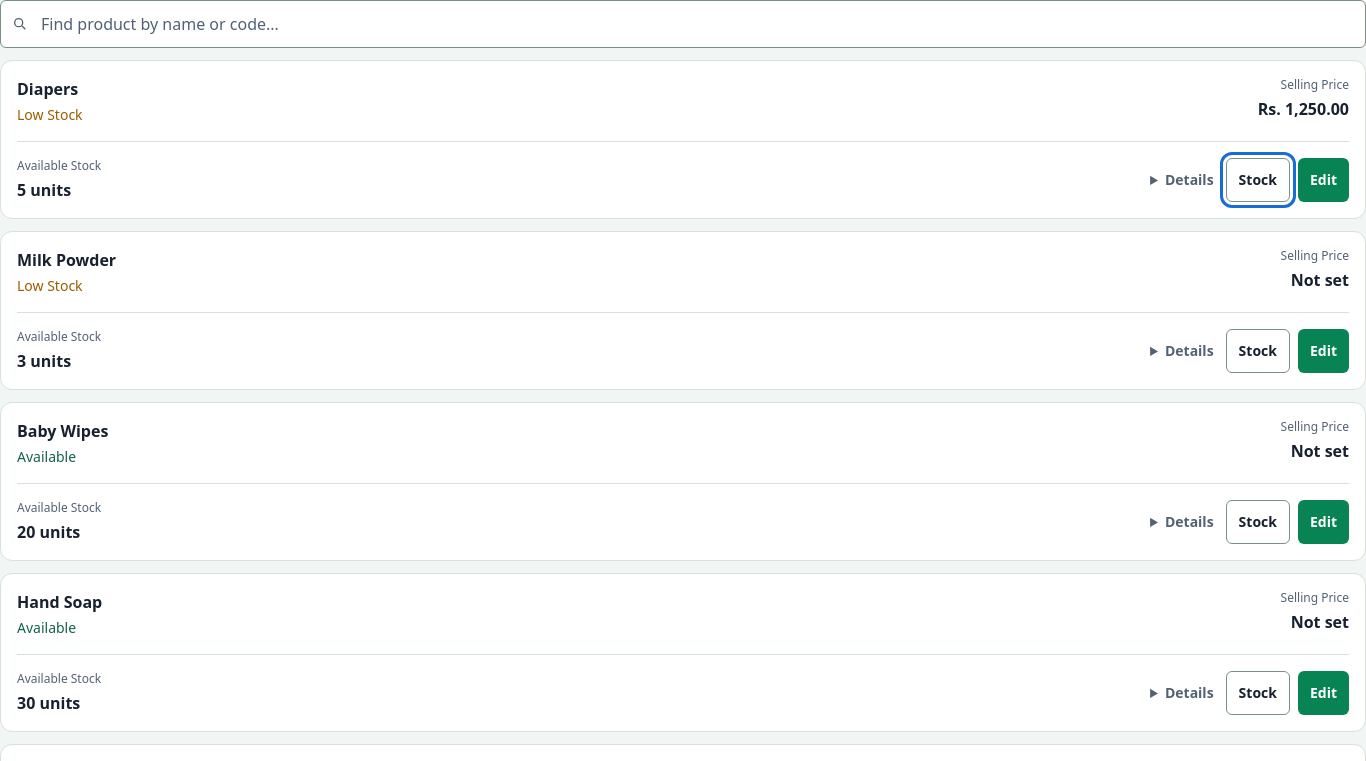
Test: separate Add Stock purchase preview › opens a product-specific dialog, prefills only a known selling guide, and returns focus on Cancel
Later steps or results of the test are not shown.
Click the button with aria-label "Add stock for Diapers" at (1258, 180), box [1226, 158, 1290, 202]
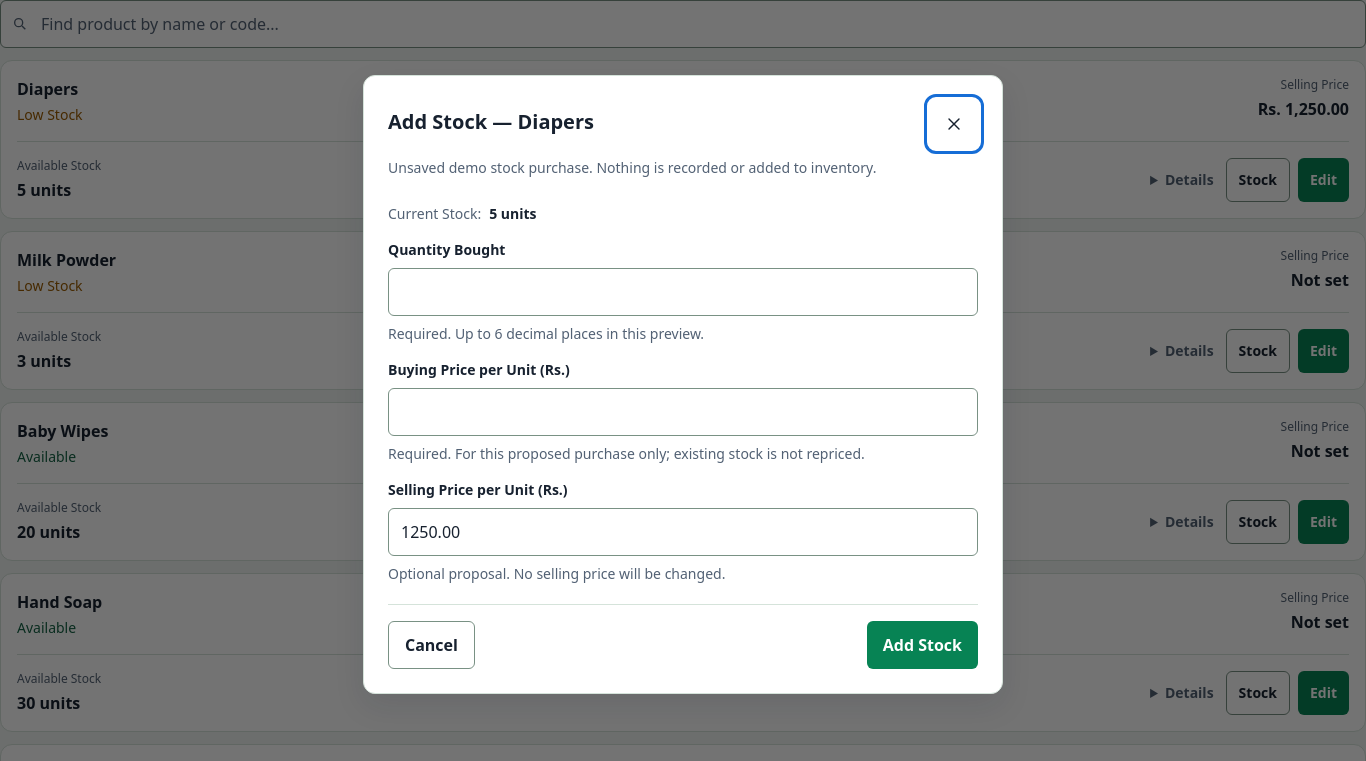
Expected: the field labelled "Buying Price per Unit (Rs.)" is empty, [388, 388, 978, 436]
Expected: the field labelled "Selling Price per Unit (Rs.)" holds "1250.00", [388, 508, 978, 556]
Click the button "Cancel" at (431, 644), box [388, 620, 475, 668]
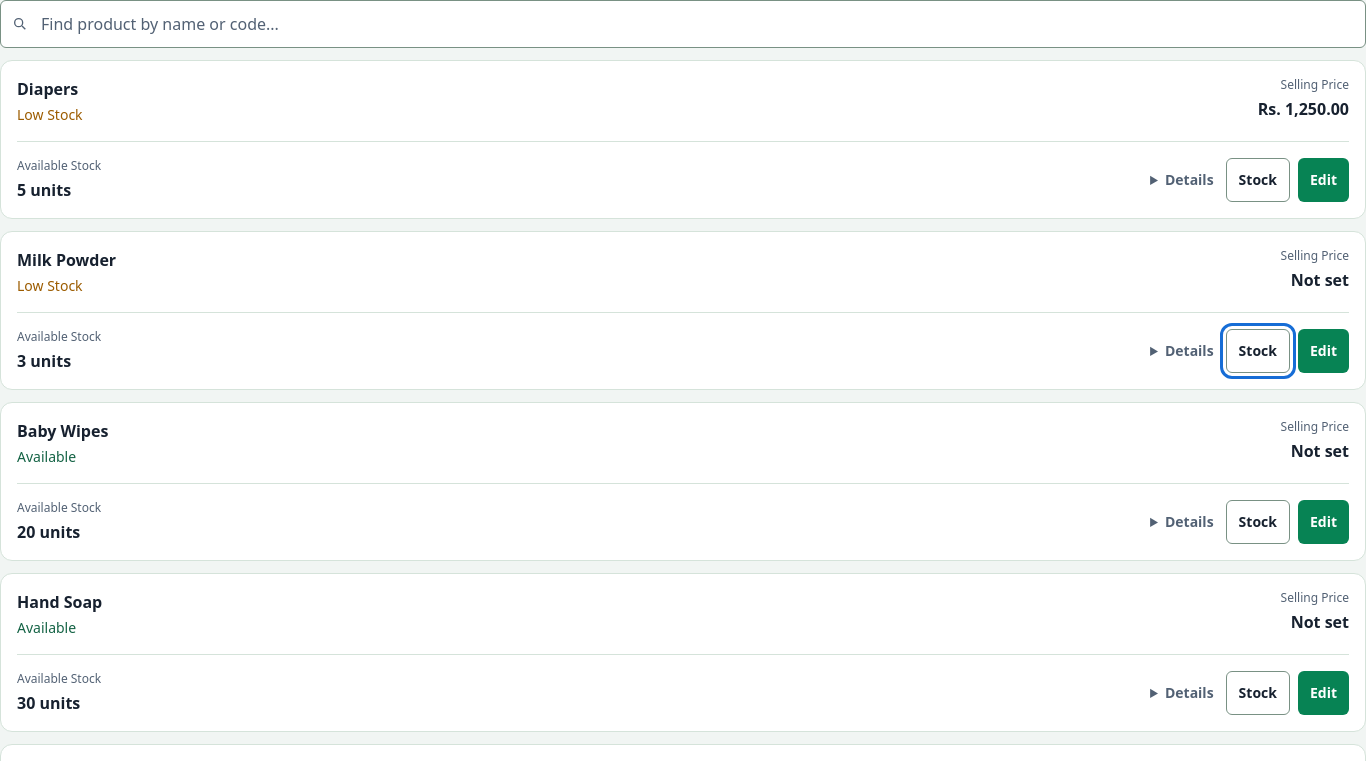
Expected: the dialog is gone
